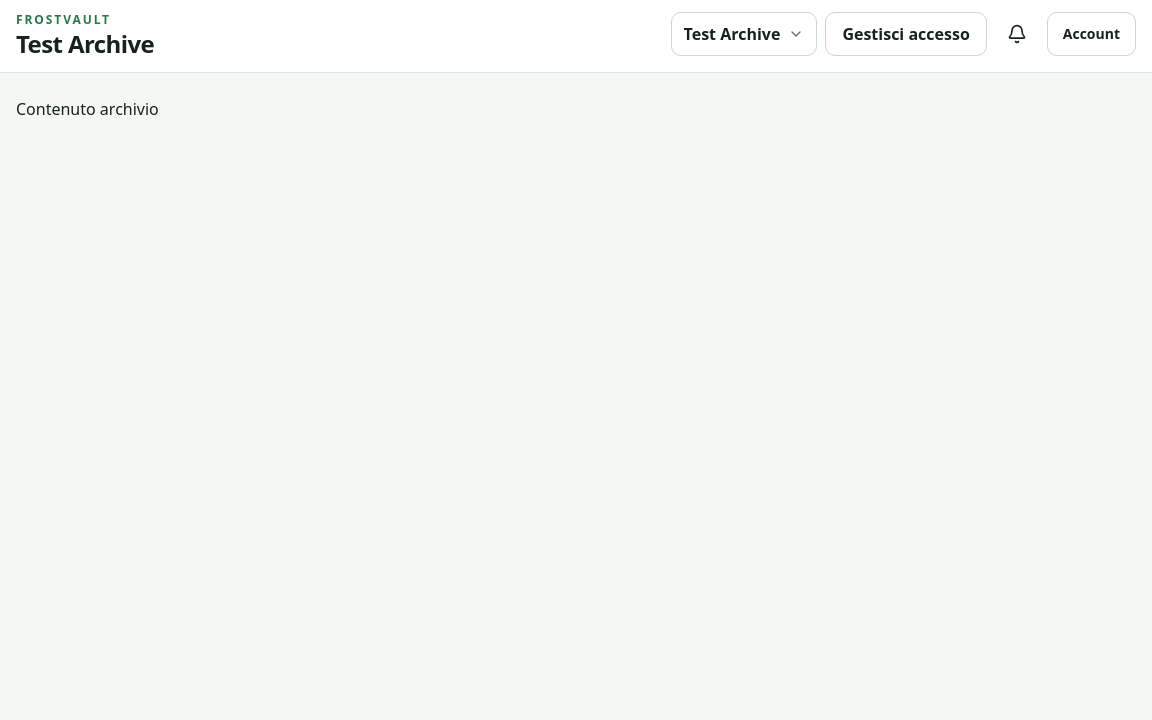
theme control placement (#223 / #224) › exposes Italian account-menu appearance labels from the shell entry point
Click the button with aria-label "Apri menu account": (1091, 34) [1047, 12, 1136, 56]
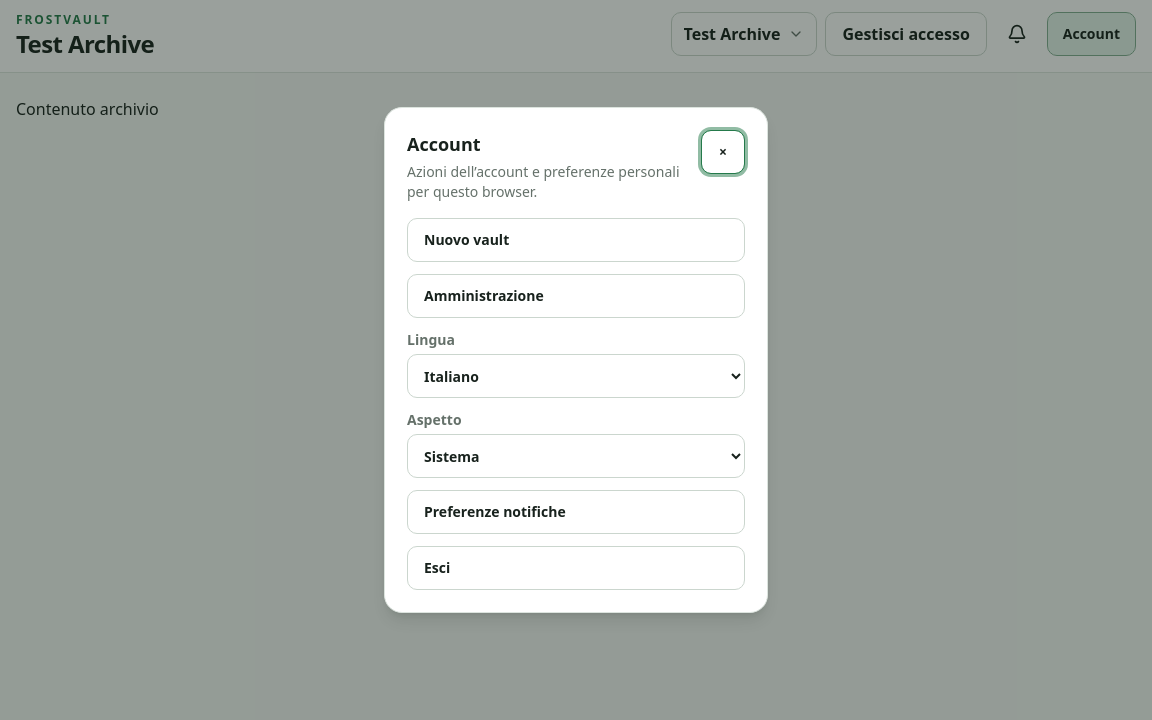
expect the dropdown labelled "Aspetto" is shown: met, box [407, 434, 745, 478]
